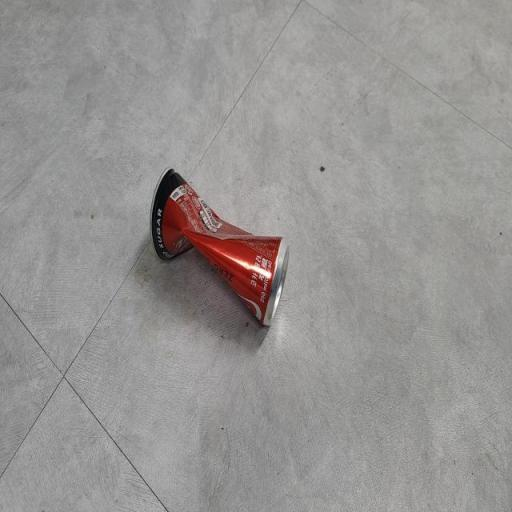metal: (118, 106, 318, 406)
